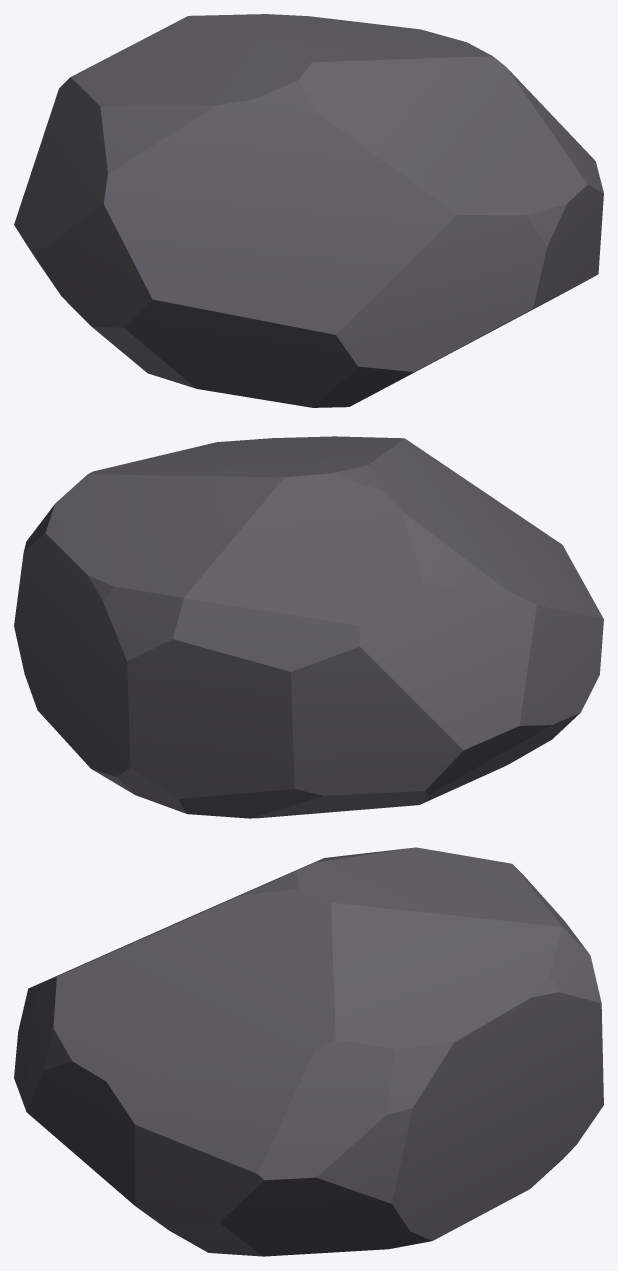
Rendered from Rock_03.fbx.
The picture shows the model from 3 angles, top to bottom: view 1: azimuth 30°, elevation 25°; view 2: azimuth 150°, elevation 25°; view 3: azimuth 270°, elevation 25°; orthographic projection. The views are drawn at different scales.
Parts seen in each view (by area): view 1: Rock_03_LOD0; view 2: Rock_03_LOD0; view 3: Rock_03_LOD0.
Part boxes in pixels (x1,y1,x2,y2): Rock_03_LOD0: (14,14,603,407); Rock_03_LOD0: (14,436,603,818); Rock_03_LOD0: (14,847,603,1256).
Size of what is drawn, in the model's own units: 0.6225 by 0.2859 by 0.5968.
